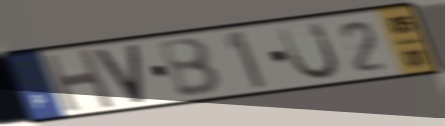1: (223, 28, 269, 92)
2: (340, 19, 390, 75)
B: (154, 35, 226, 99)
H: (40, 46, 119, 114)
U: (275, 20, 342, 83)
V: (91, 42, 149, 107)
